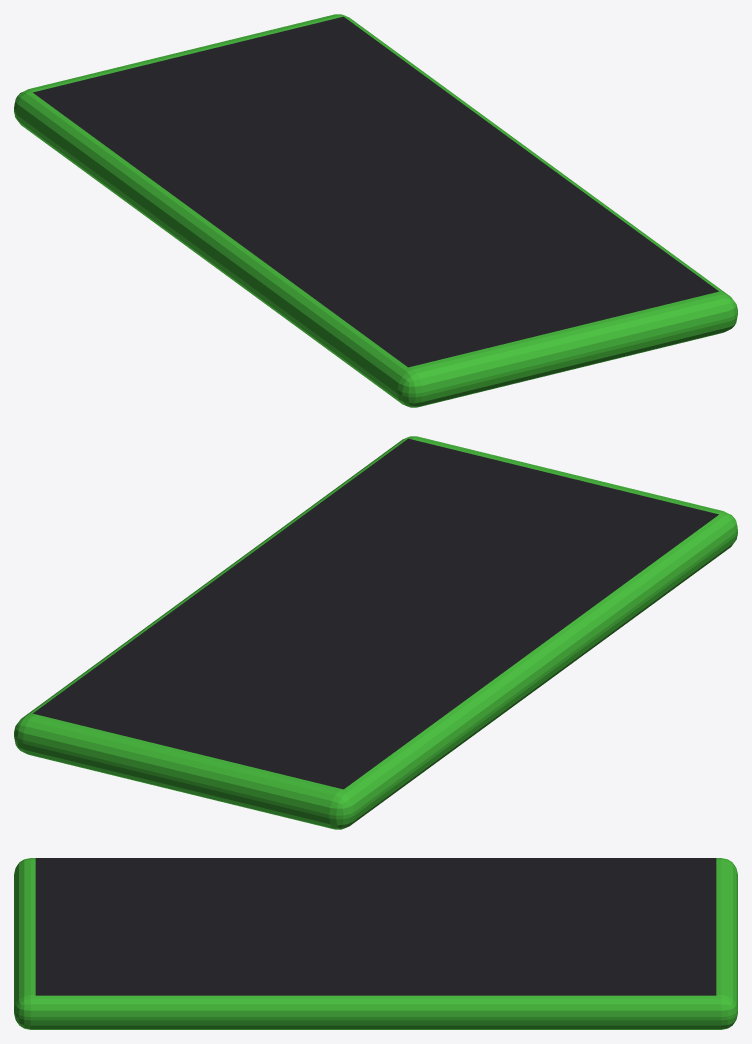
File: Phone_102.glb
3 renders of one model, top to bottom at view 1: azimuth 30°, elevation 25°; view 2: azimuth 150°, elevation 25°; view 3: azimuth 270°, elevation 25°, orthographic. The views are drawn at different scales.
Visible parts, largest first — view 1: Phone_Screen, Phone_Body; view 2: Phone_Screen, Phone_Body; view 3: Phone_Screen, Phone_Body.
Boxes of the visible parts, x1=… form: Phone_Screen: x1=33, y1=16, x2=718, y2=367; Phone_Body: x1=14, y1=14, x2=737, y2=407; Phone_Screen: x1=33, y1=438, x2=718, y2=789; Phone_Body: x1=14, y1=436, x2=737, y2=829; Phone_Screen: x1=35, y1=858, x2=716, y2=995; Phone_Body: x1=14, y1=858, x2=737, y2=1029.
Size of the model in its own units: 0.0701 by 0.0074 by 0.1435.
